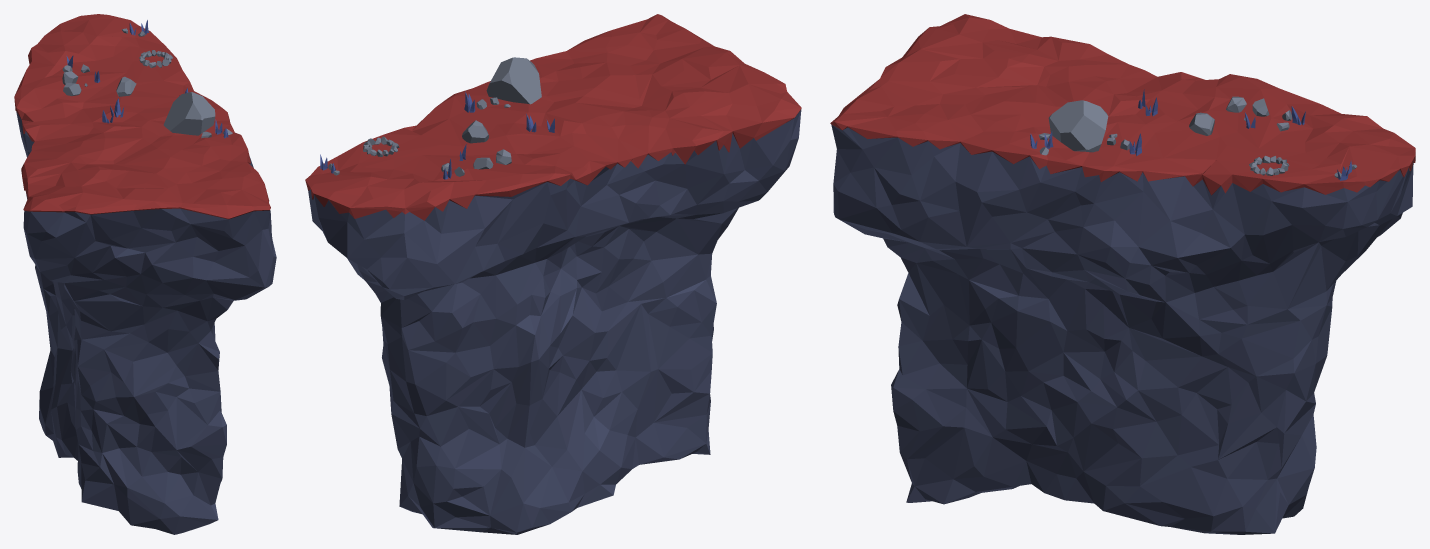
Rendered from Cliff_1.glb.
3 renders of one model, left to right at view 1: azimuth 30°, elevation 25°; view 2: azimuth 150°, elevation 25°; view 3: azimuth 270°, elevation 25°, orthographic. The views are drawn at different scales.
Parts seen in each view (by area): view 1: cliff_sc_1, cliff-grass_sc_1, rocks_sc_1, grass_sc_1, fire_rocks; view 2: cliff_sc_1, cliff-grass_sc_1, rocks_sc_1, grass_sc_1; view 3: cliff_sc_1, cliff-grass_sc_1, rocks_sc_1, grass_sc_1.
Boxes of the visible parts, x1,y1,x2,y2 form: cliff_sc_1: (16,112,276,534); cliff-grass_sc_1: (14,14,270,219); rocks_sc_1: (62,28,232,138); grass_sc_1: (66,20,228,138); fire_rocks: (139,50,172,67); cliff_sc_1: (308,109,801,534); cliff-grass_sc_1: (305,14,801,220); rocks_sc_1: (328,57,541,176); grass_sc_1: (320,91,554,179); cliff_sc_1: (831,124,1413,534); cliff-grass_sc_1: (830,14,1415,195); rocks_sc_1: (1038,96,1356,177); grass_sc_1: (1030,89,1351,180).
Size of the model in its own units: 11.28 by 14.29 by 17.1.
